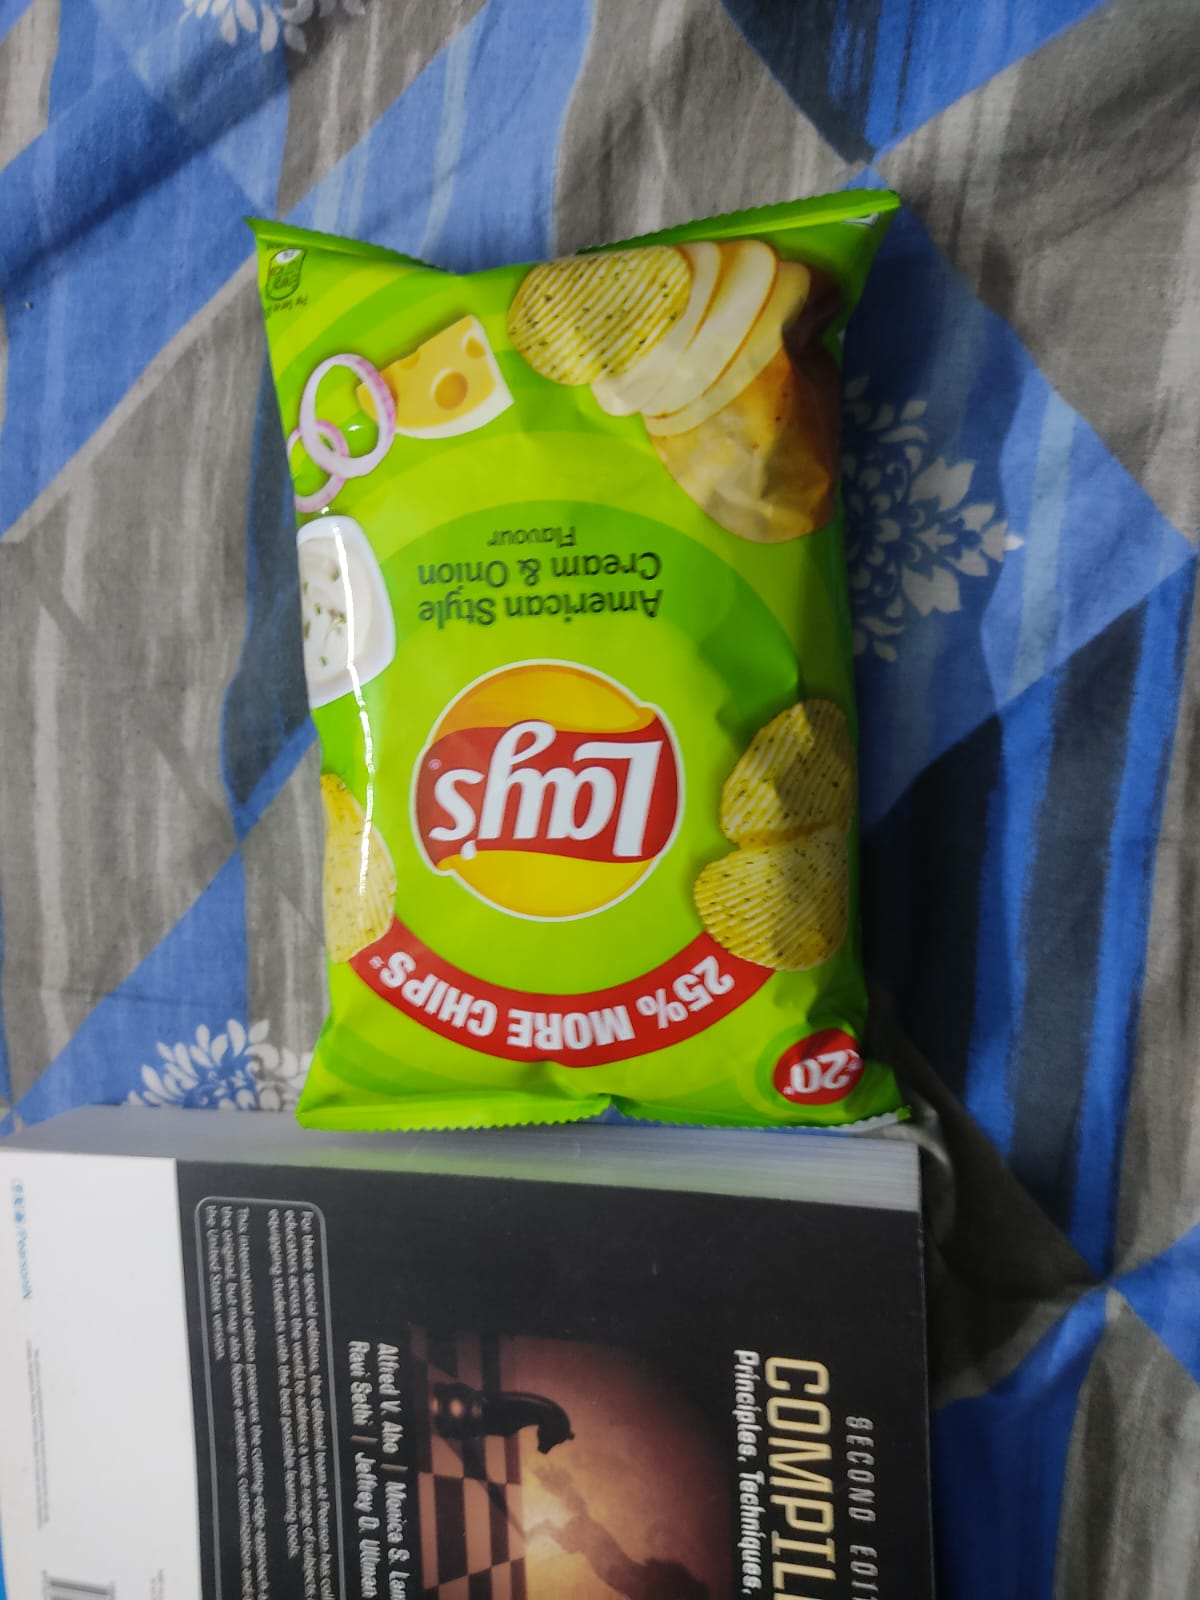020_GreenLays: (258, 237, 897, 1094)
